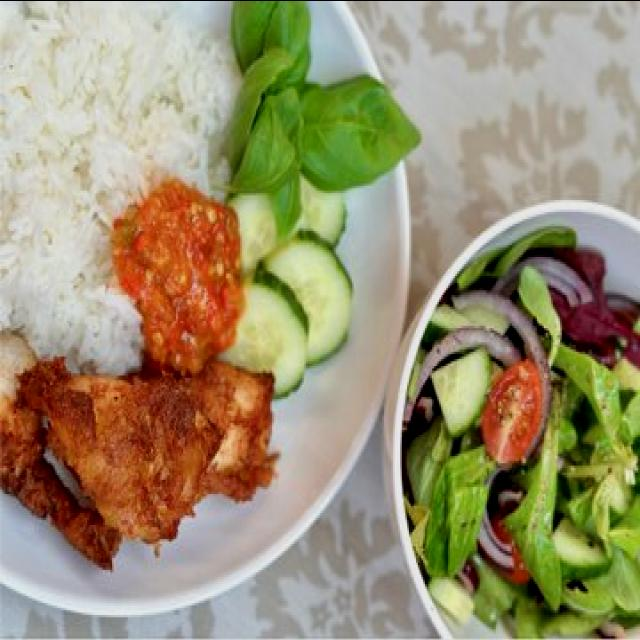ayam goreng: (0, 329, 279, 562)
